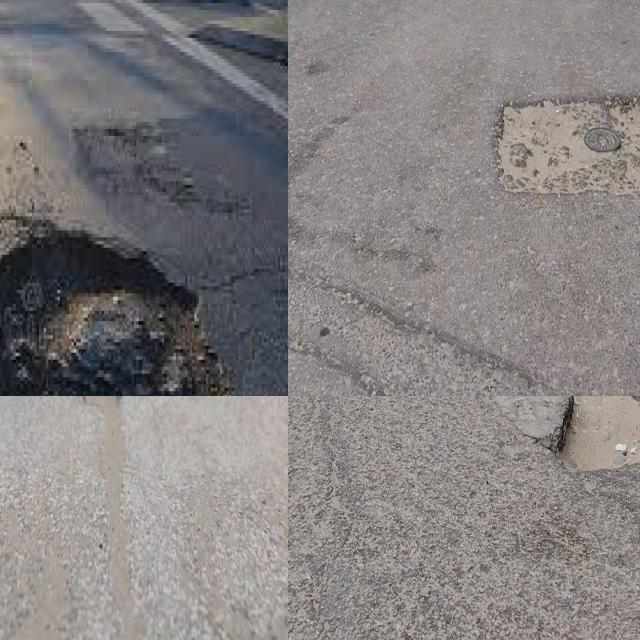Pothole: (0, 213, 231, 396), (492, 89, 640, 202), (554, 396, 640, 479)
